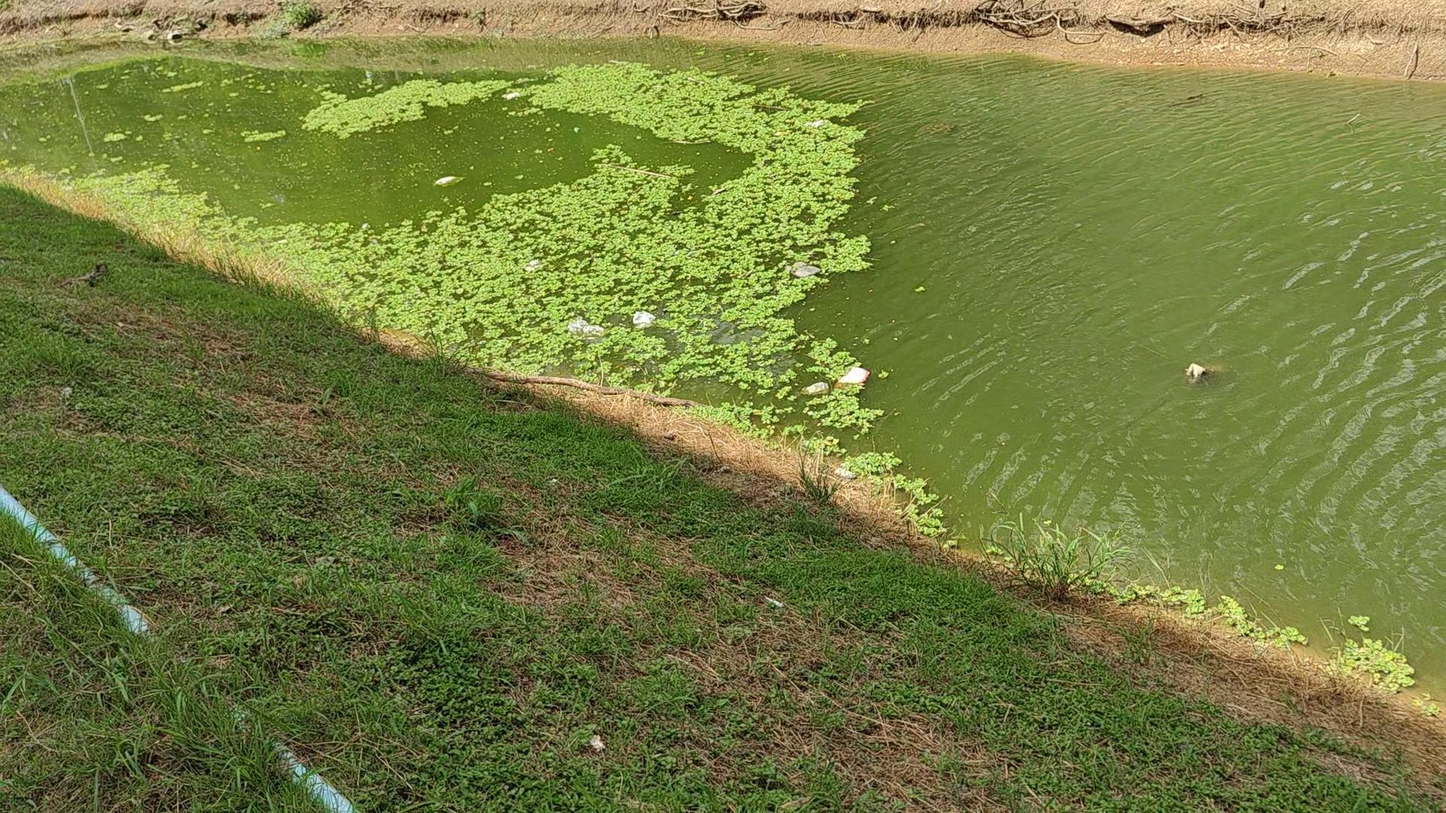trash: (567, 318, 604, 336), (837, 367, 869, 385), (791, 261, 820, 277), (1185, 363, 1210, 381), (633, 312, 655, 327), (804, 382, 829, 394), (435, 176, 461, 185), (525, 260, 541, 271), (502, 92, 520, 99), (807, 119, 825, 126)
